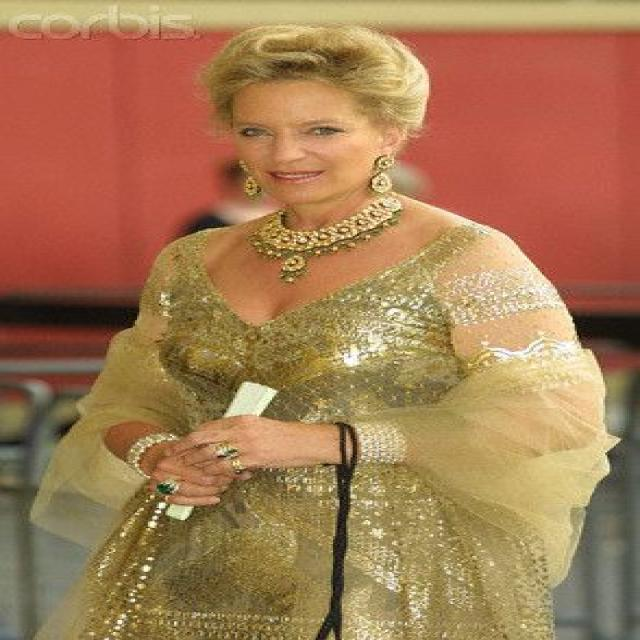Earring: (368, 145, 401, 199), (230, 160, 269, 205)
